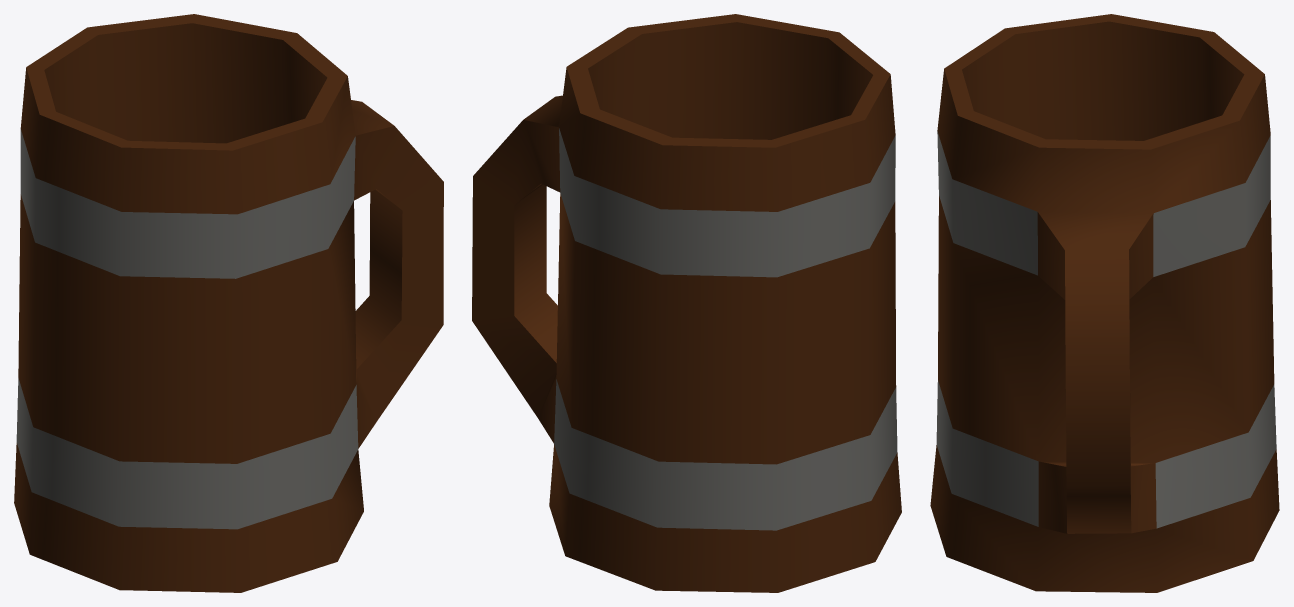
The model's file is SM_MugTwo.fbx.
3 views of the same model, side by side, from view 1: azimuth 30°, elevation 25°; view 2: azimuth 150°, elevation 25°; view 3: azimuth 270°, elevation 25° (orthographic).
Parts seen in each view (by area): view 1: SM_MugTwo; view 2: SM_MugTwo; view 3: SM_MugTwo.
Boxes of the visible parts, bbox=[...] form: SM_MugTwo: bbox=[14, 14, 443, 592]; SM_MugTwo: bbox=[472, 14, 901, 592]; SM_MugTwo: bbox=[930, 14, 1279, 592].
Bounding box in the file's own units: 0.1658 × 0.1779 × 0.1283.
